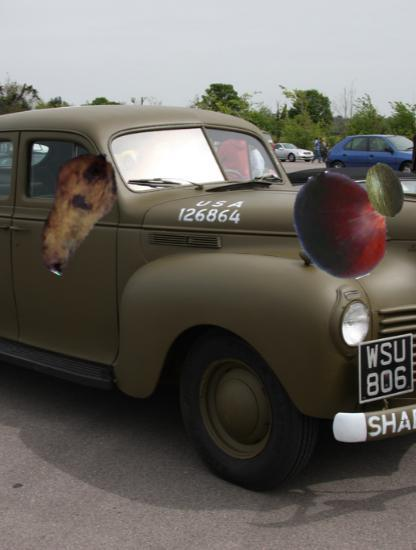Chestnut: (287, 169, 399, 281)
Melon: (357, 162, 413, 218)
Pear: (10, 146, 140, 276)
